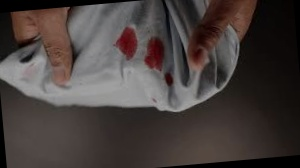blood: (113, 28, 141, 61), (142, 37, 168, 71)
